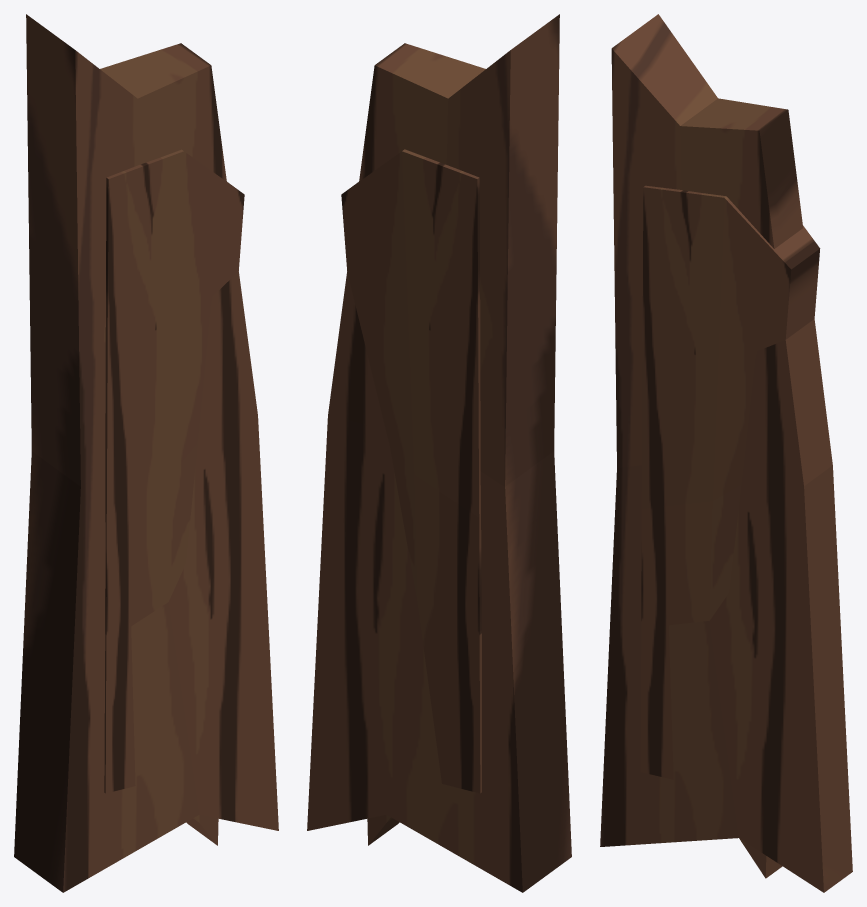
File: crate_splinters_01.fbx
The picture shows the model from 3 angles, left to right: view 1: azimuth 30°, elevation 25°; view 2: azimuth 150°, elevation 25°; view 3: azimuth 330°, elevation 25°; orthographic projection. The views are drawn at different scales.
Parts seen in each view (by area): view 1: splinter_02, splinter_03; view 2: splinter_02, splinter_03; view 3: splinter_02, splinter_03.
Part boxes in pixels (x1,y1,x2,y2): splinter_02: (14, 14, 278, 892); splinter_03: (104, 149, 244, 845); splinter_02: (307, 14, 571, 892); splinter_03: (341, 149, 481, 845); splinter_02: (600, 14, 852, 892); splinter_03: (640, 185, 820, 878).
Bounding box in the file's own units: 0.5109 × 0.1931 × 1.82.
